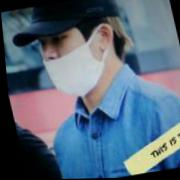WRONG: (34, 17, 105, 100)
